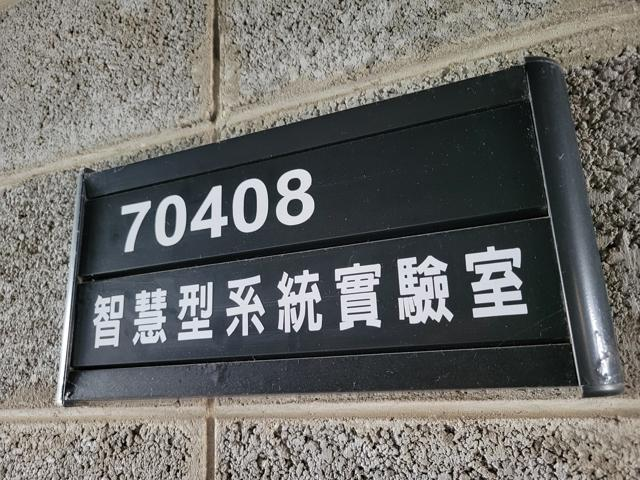doorplate: (42, 48, 628, 409)
